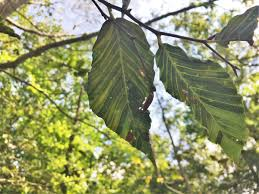Diseased_Leaves: (141, 86, 151, 114), (125, 128, 138, 144)
